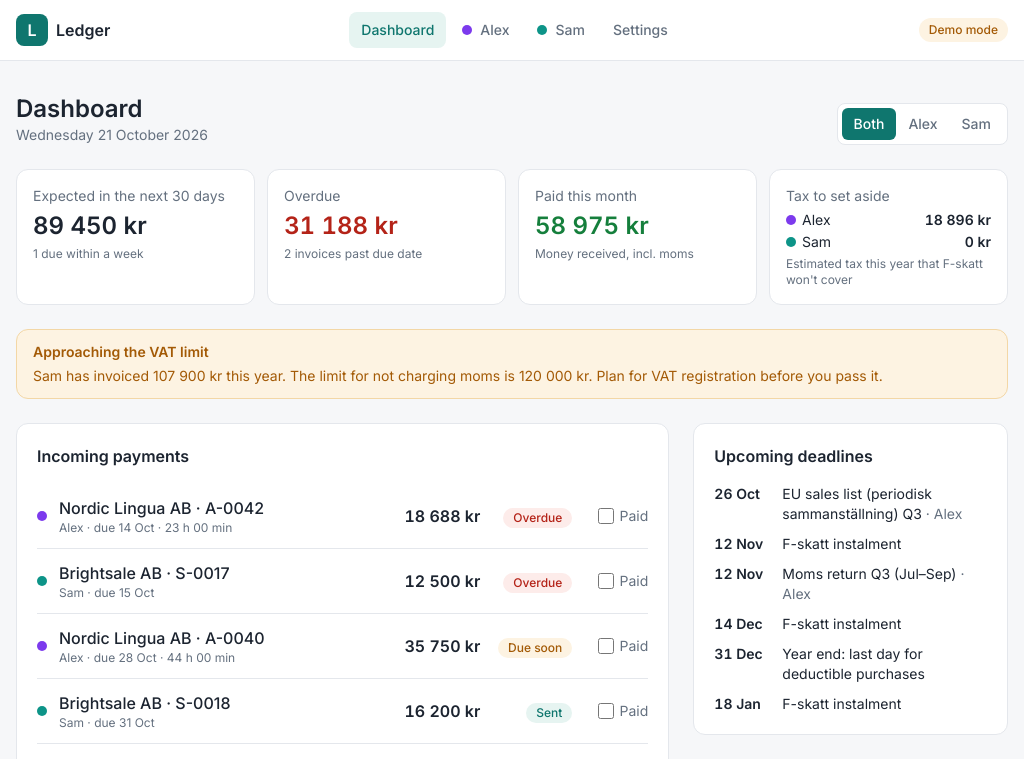
Test: Paid tick feels instant › shows the tick straight away while the save is still running
Click the checkbox named "Mark A-0042 as paid" at (606, 516), box [598, 508, 614, 524]
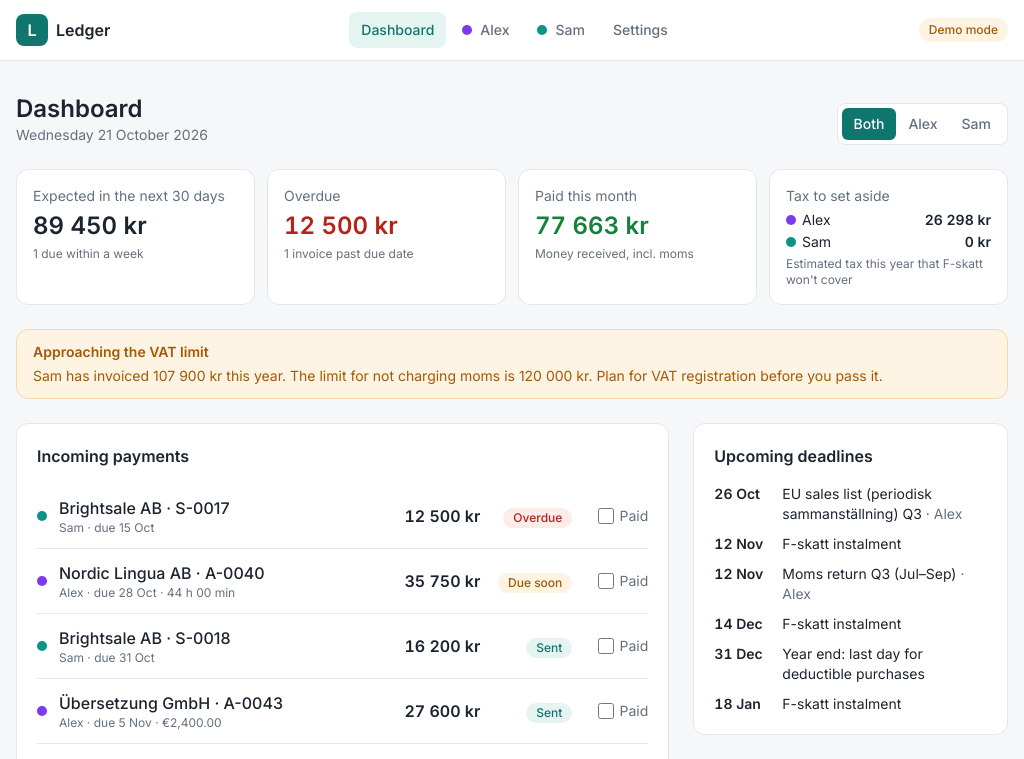
Result: the element "Overdue" shows "12 500 kr" at [284, 211, 398, 240]
